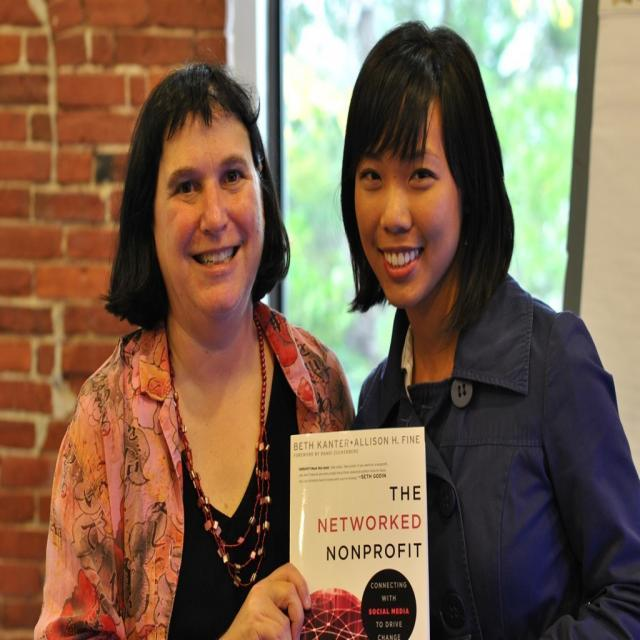book: (289, 427, 429, 640)
